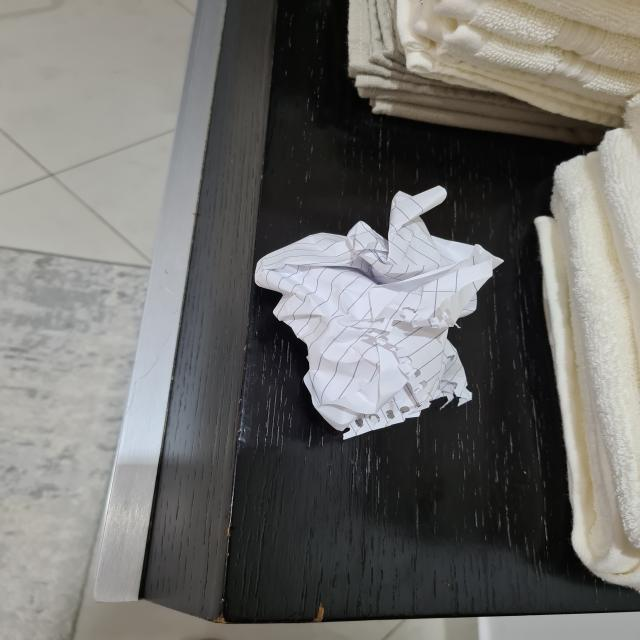Paper: (250, 186, 498, 431)
